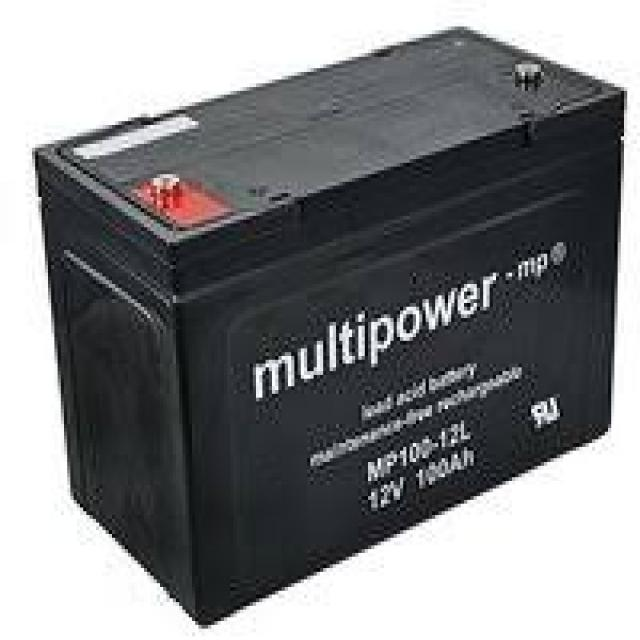non-organic waste: (34, 17, 632, 629)
